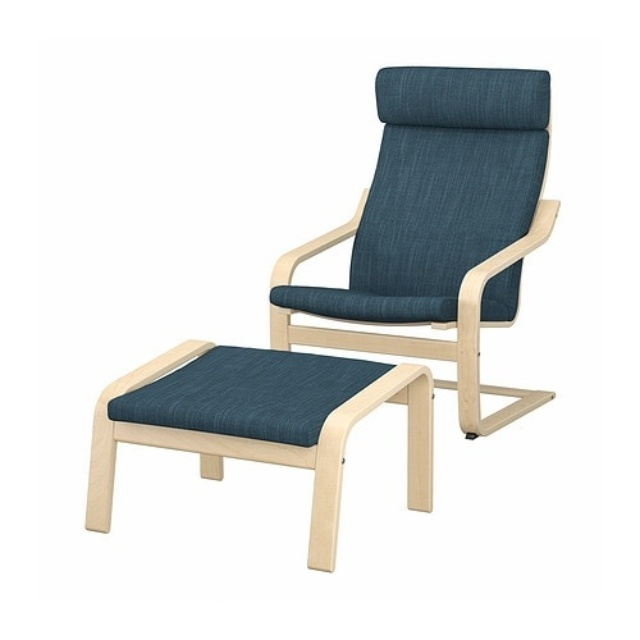obstacle: (270, 67, 558, 438), (86, 340, 433, 571)
